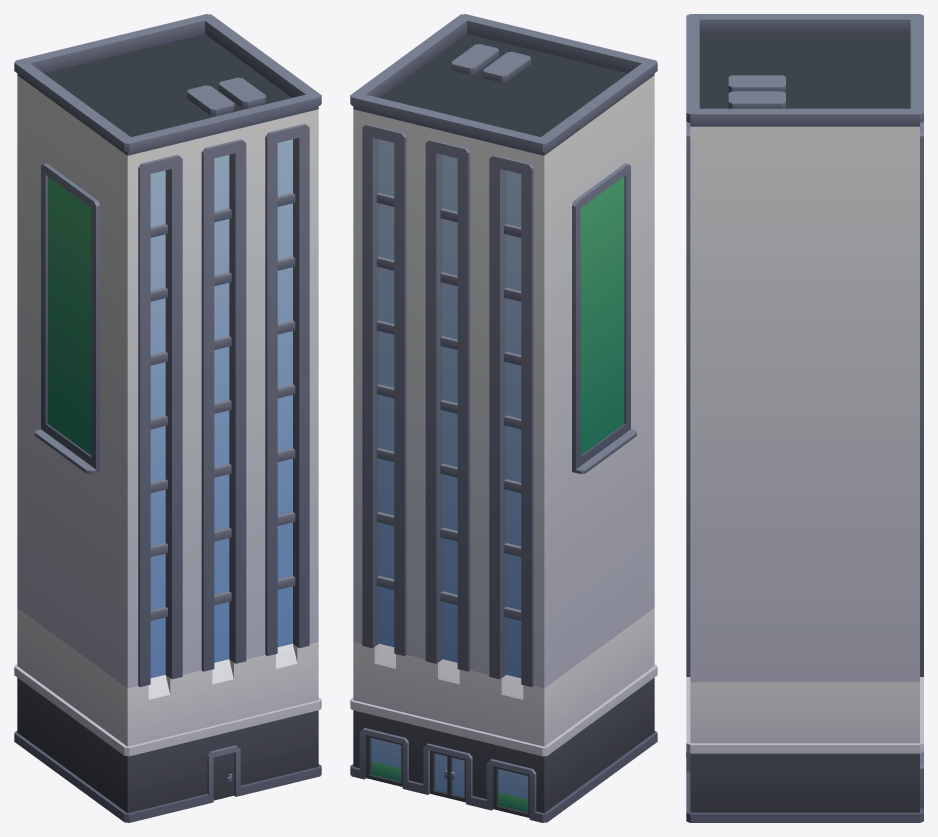
File: commercial__building-skyscraper-e.glb
3 views of the same model, side by side, from view 1: azimuth 30°, elevation 25°; view 2: azimuth 150°, elevation 25°; view 3: azimuth 270°, elevation 25° (orthographic). The views are drawn at different scales.
Parts seen in each view (by area): view 1: building-skyscraper-e; view 2: building-skyscraper-e; view 3: building-skyscraper-e.
Boxes of the visible parts, x1,y1,x2,y2 form: building-skyscraper-e: [14, 14, 321, 822]; building-skyscraper-e: [350, 14, 657, 822]; building-skyscraper-e: [686, 14, 923, 822].
Size of the model in its own units: 1.3 by 4.08 by 1.24.
1 material, 1 textured.
